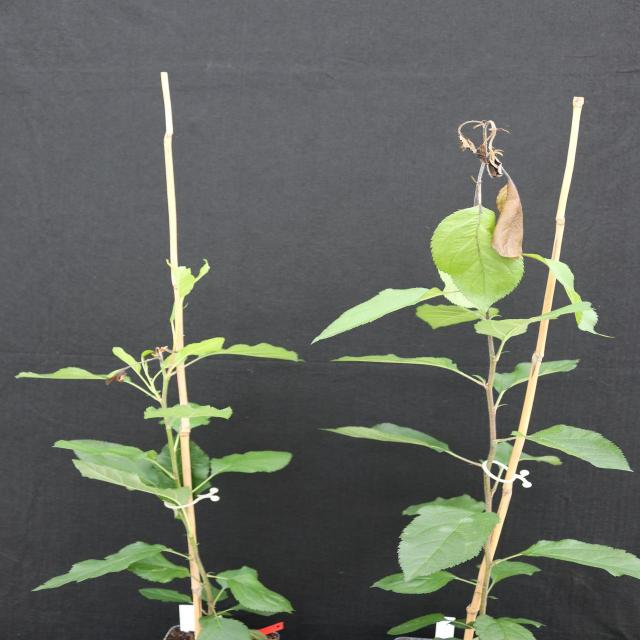-FireBlight-: (453, 124, 524, 256)
